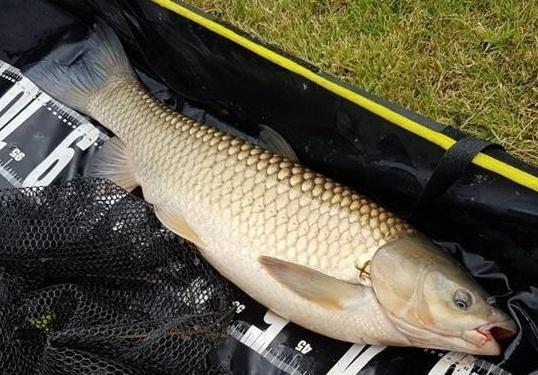Grass Carp: (34, 24, 518, 358)
